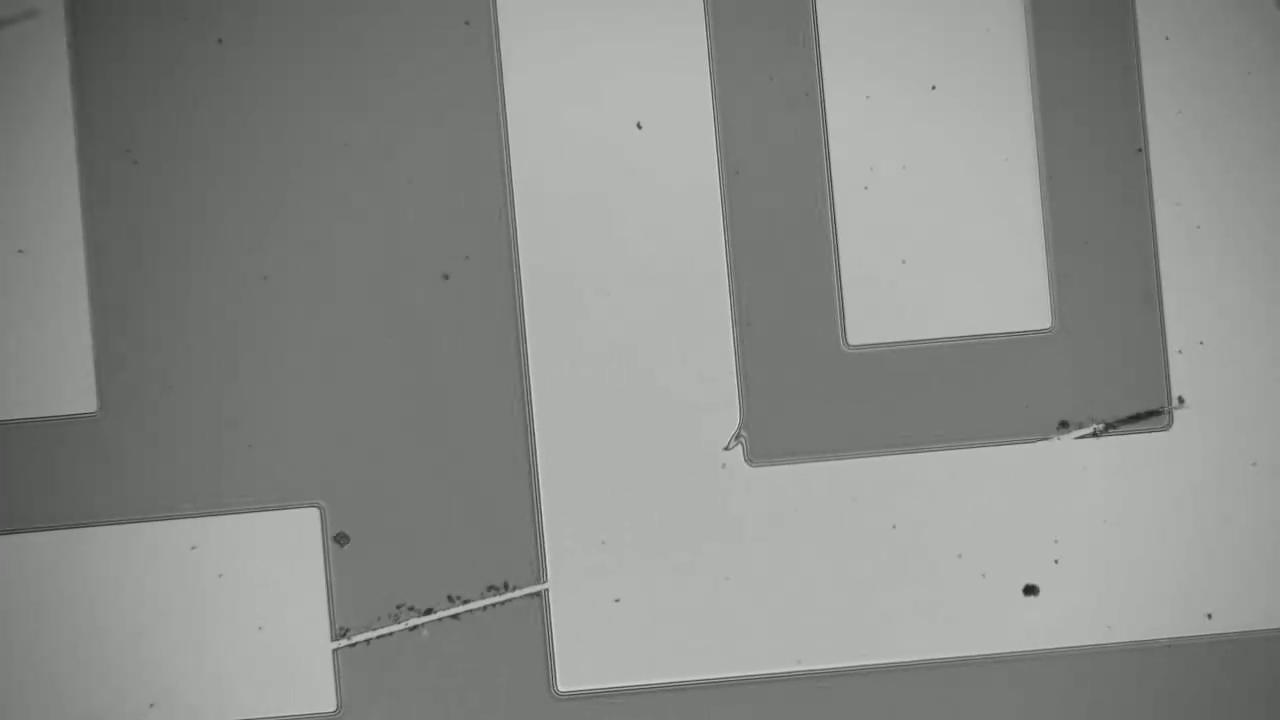scratch: (338, 583, 537, 646), (1044, 399, 1171, 431)
